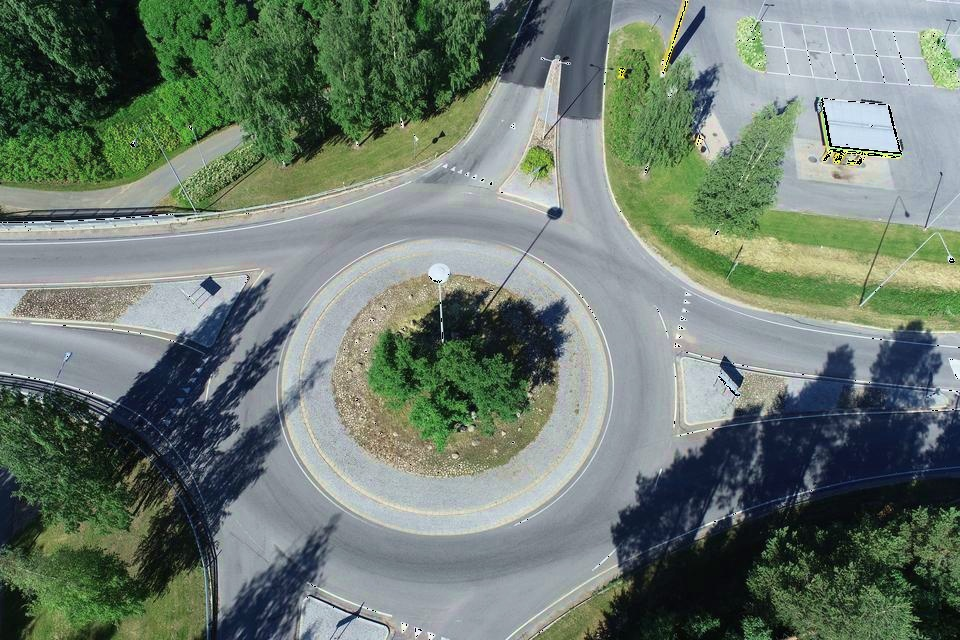roundabout: (168, 160, 734, 626)
